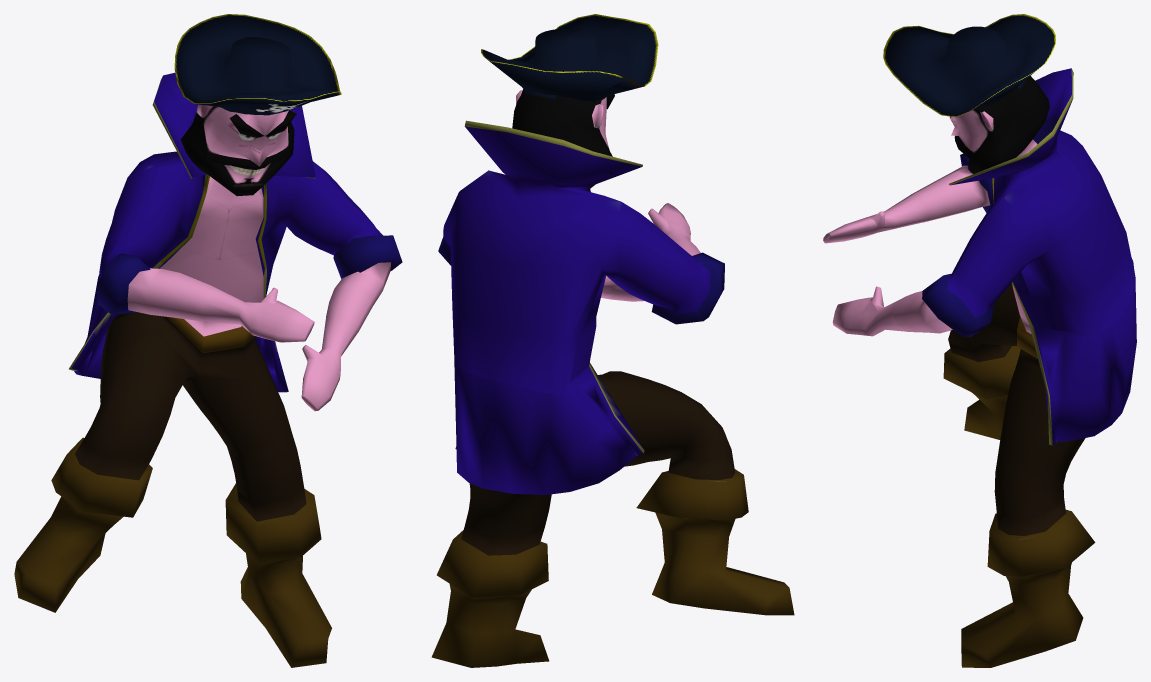
The model's file is PirataCelebracion_000126.obj.
The picture shows the model from 3 angles, left to right: view 1: azimuth 30°, elevation 25°; view 2: azimuth 150°, elevation 25°; view 3: azimuth 270°, elevation 25°; orthographic projection. The views are drawn at different scales.
Visible parts, largest first — view 1: Pirata_PirataH; view 2: Pirata_PirataH; view 3: Pirata_PirataH.
Boxes of the visible parts, bbox=[...] form: Pirata_PirataH: bbox=[14, 14, 402, 667]; Pirata_PirataH: bbox=[431, 14, 794, 667]; Pirata_PirataH: bbox=[823, 14, 1136, 667].
Bounding box in the file's own units: 4.55 × 7.62 × 3.6.
1 material, 1 textured.
